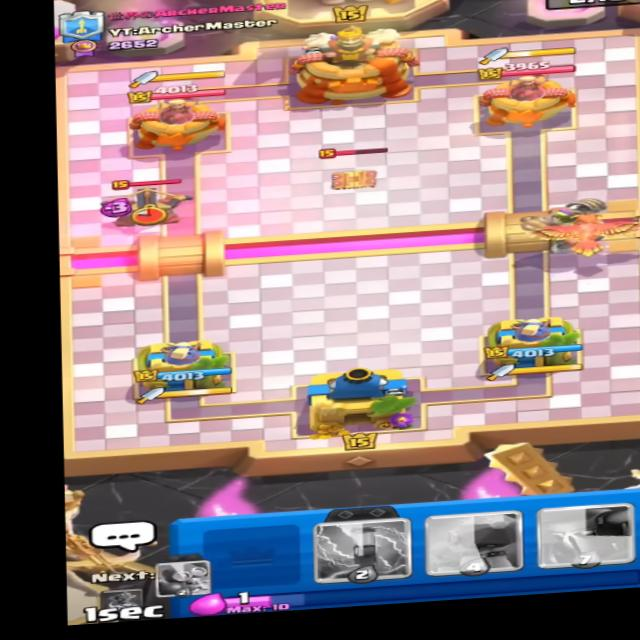tesla-closed: (310, 137, 401, 193)
x-bow: (86, 174, 199, 239)
